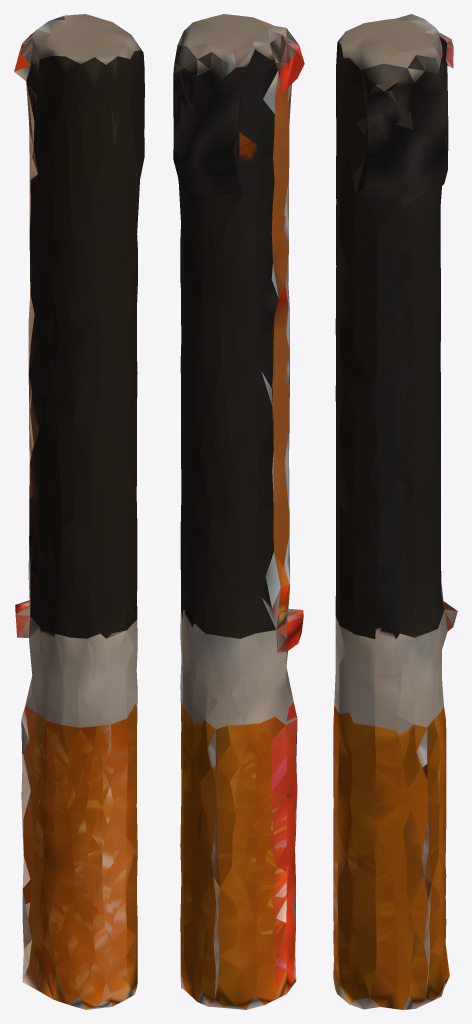
File: fag.glb
The picture shows the model from 3 angles, left to right: view 1: azimuth 30°, elevation 25°; view 2: azimuth 210°, elevation 25°; view 3: azimuth 270°, elevation 25°; orthographic projection.
Parts seen in each view (by area): view 1: texture_pbr_v128; view 2: texture_pbr_v128; view 3: texture_pbr_v128.
Part boxes in pixels (x1=…): texture_pbr_v128: x1=14, y1=14, x2=144, y2=1009; texture_pbr_v128: x1=173, y1=14, x2=304, y2=1009; texture_pbr_v128: x1=333, y1=14, x2=457, y2=1009.
Size of the model in its own units: 0.0713 by 0.5996 by 0.0708.
1 material, 1 textured.
